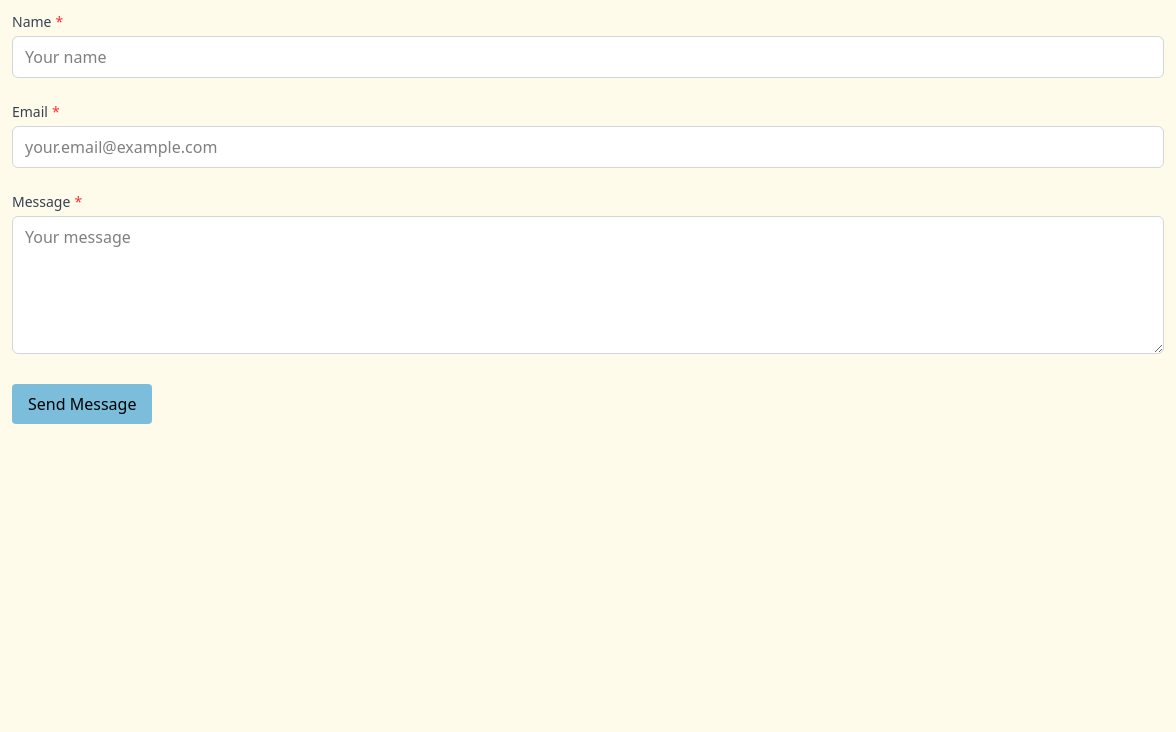
Test: ContactForm component › shows error message when submission fails
The width and height of the screenshot is (1176, 732).
# Fill the form
In the field labelled "Name*": (588, 57) [12,36,1164,78], type "John Doe"
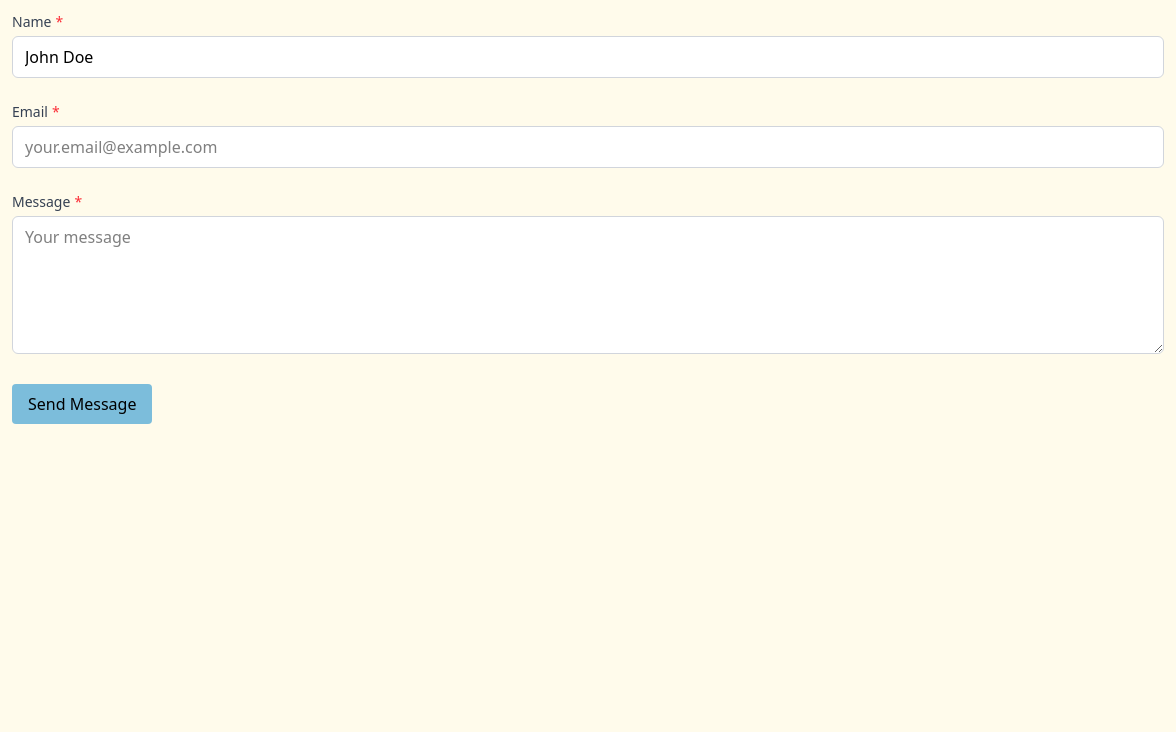
In the field labelled "Email*": (588, 147) [12,126,1164,168], type "john@example.com"
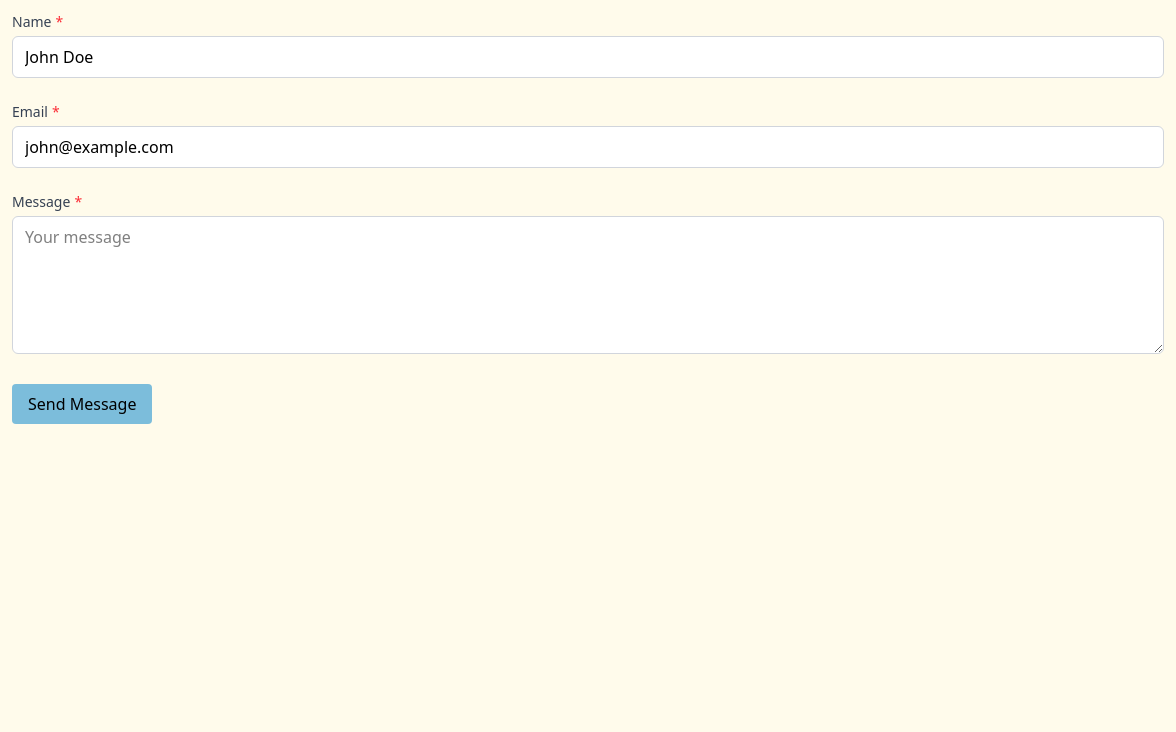
In the text box labelled "Message*": (588, 285) [12,216,1164,354], type "Test message"
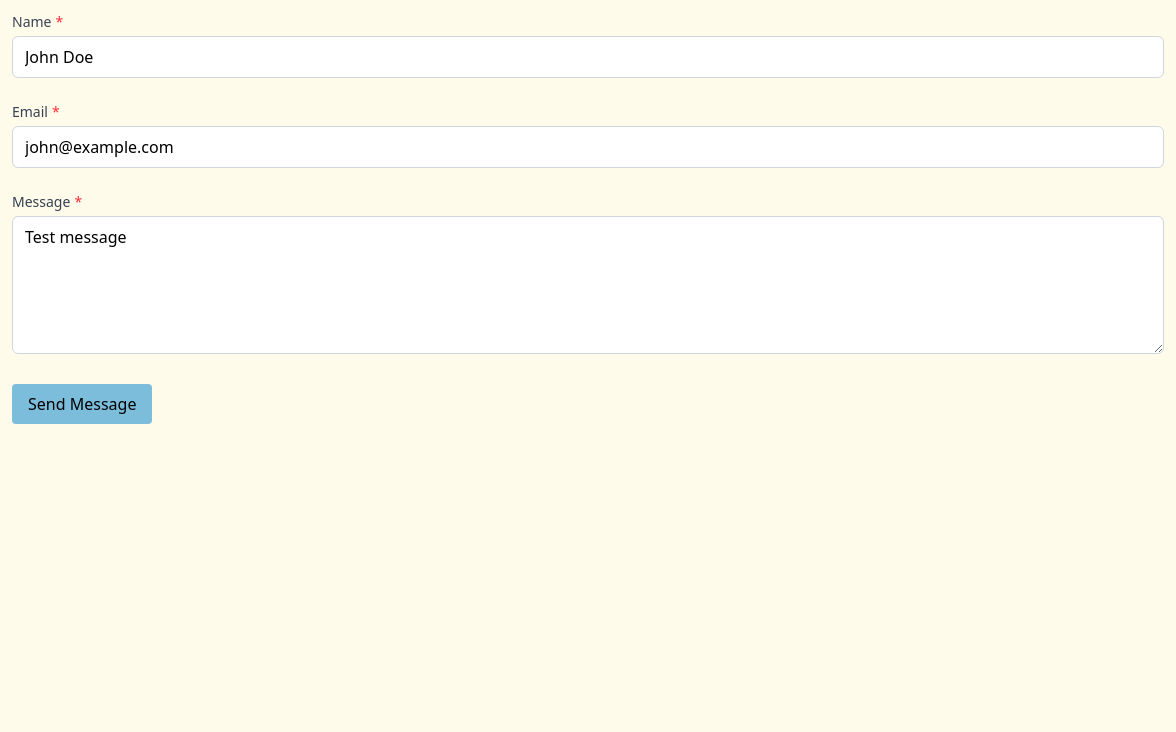
# Submit form
Click the button "Send Message": (82, 404) [12,384,152,424]
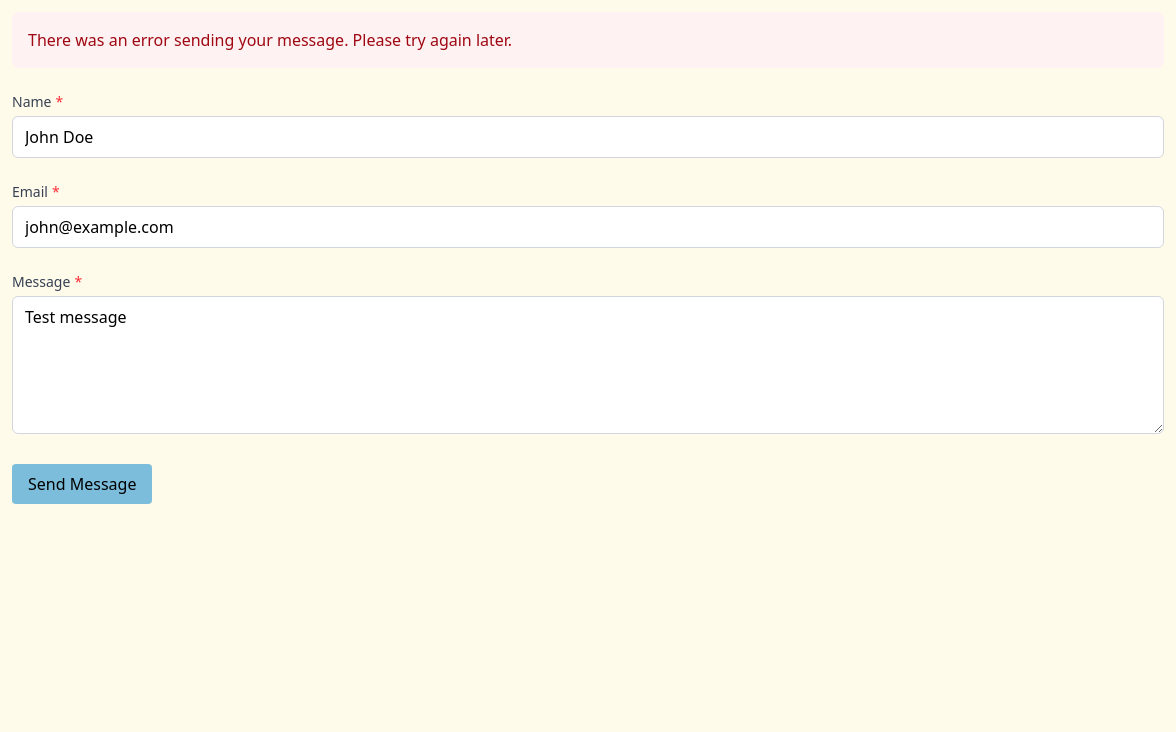
Expected: the text "There was an error sending your message" is shown, [28,29,512,51]
